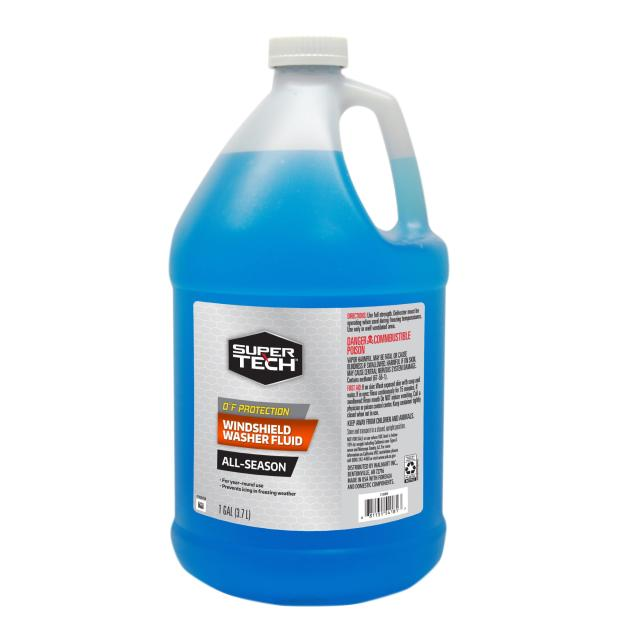winwinshield_washer: (161, 31, 459, 614)
